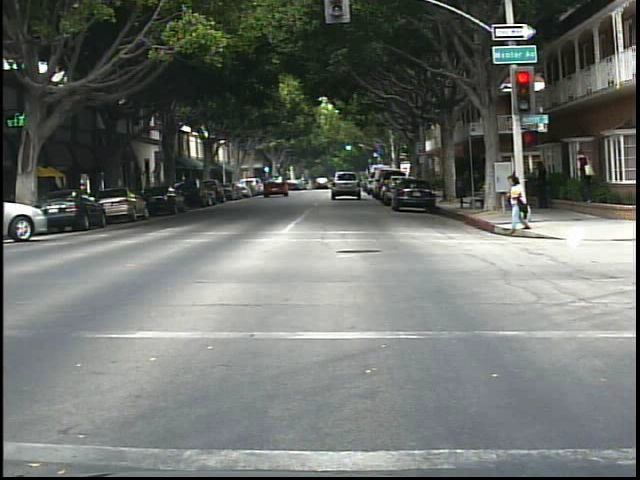person: (500, 169, 534, 237), (572, 145, 599, 204), (535, 155, 557, 213)
